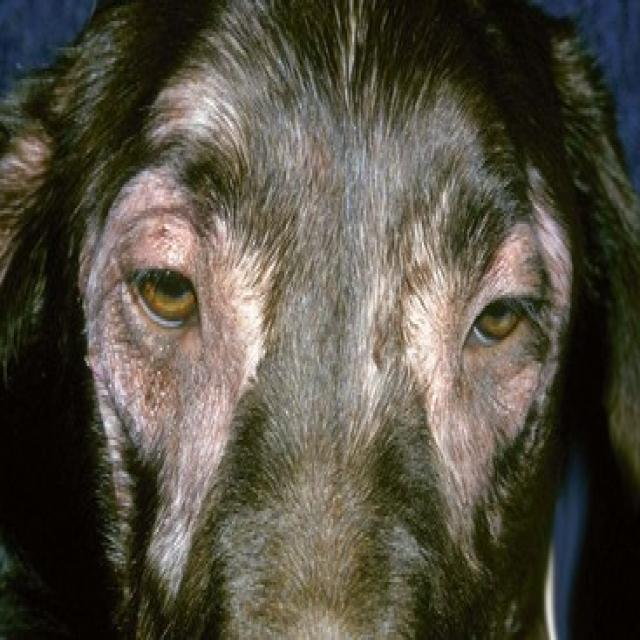allergic dermatitis: (102, 339, 224, 413), (404, 288, 464, 432), (197, 250, 252, 406), (107, 196, 210, 264), (460, 231, 557, 297), (461, 357, 532, 424), (87, 245, 132, 349)
